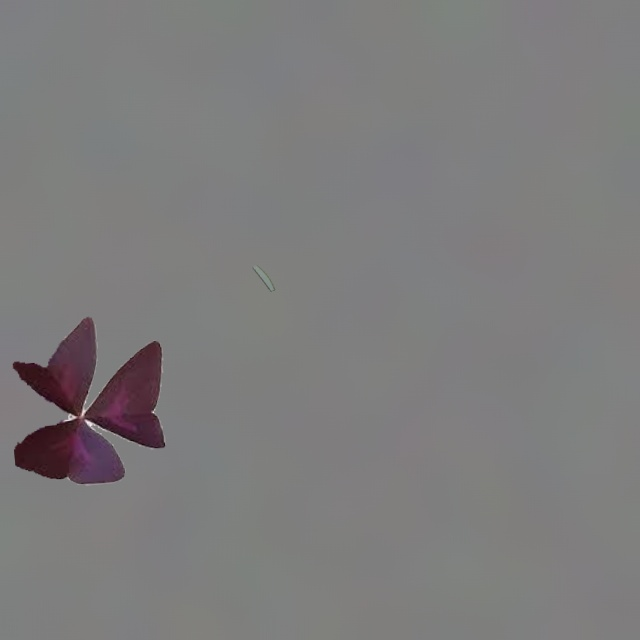butterfly flower: (13, 317, 164, 484)
passion flower: (253, 266, 274, 290)
